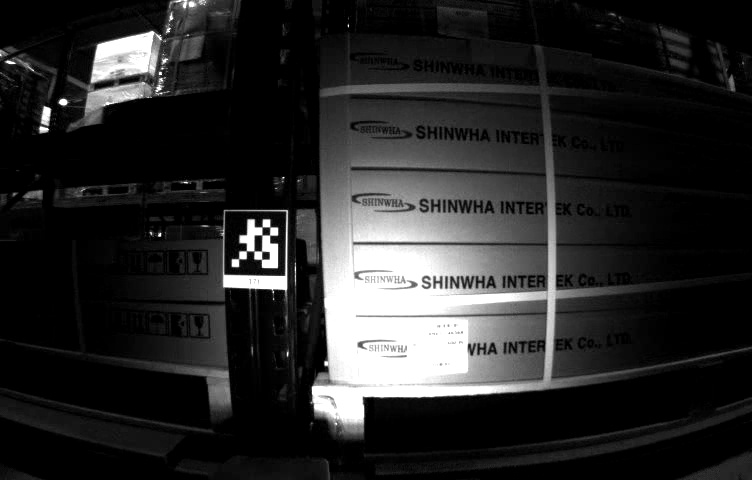True Barcode: (408, 324, 469, 368)
